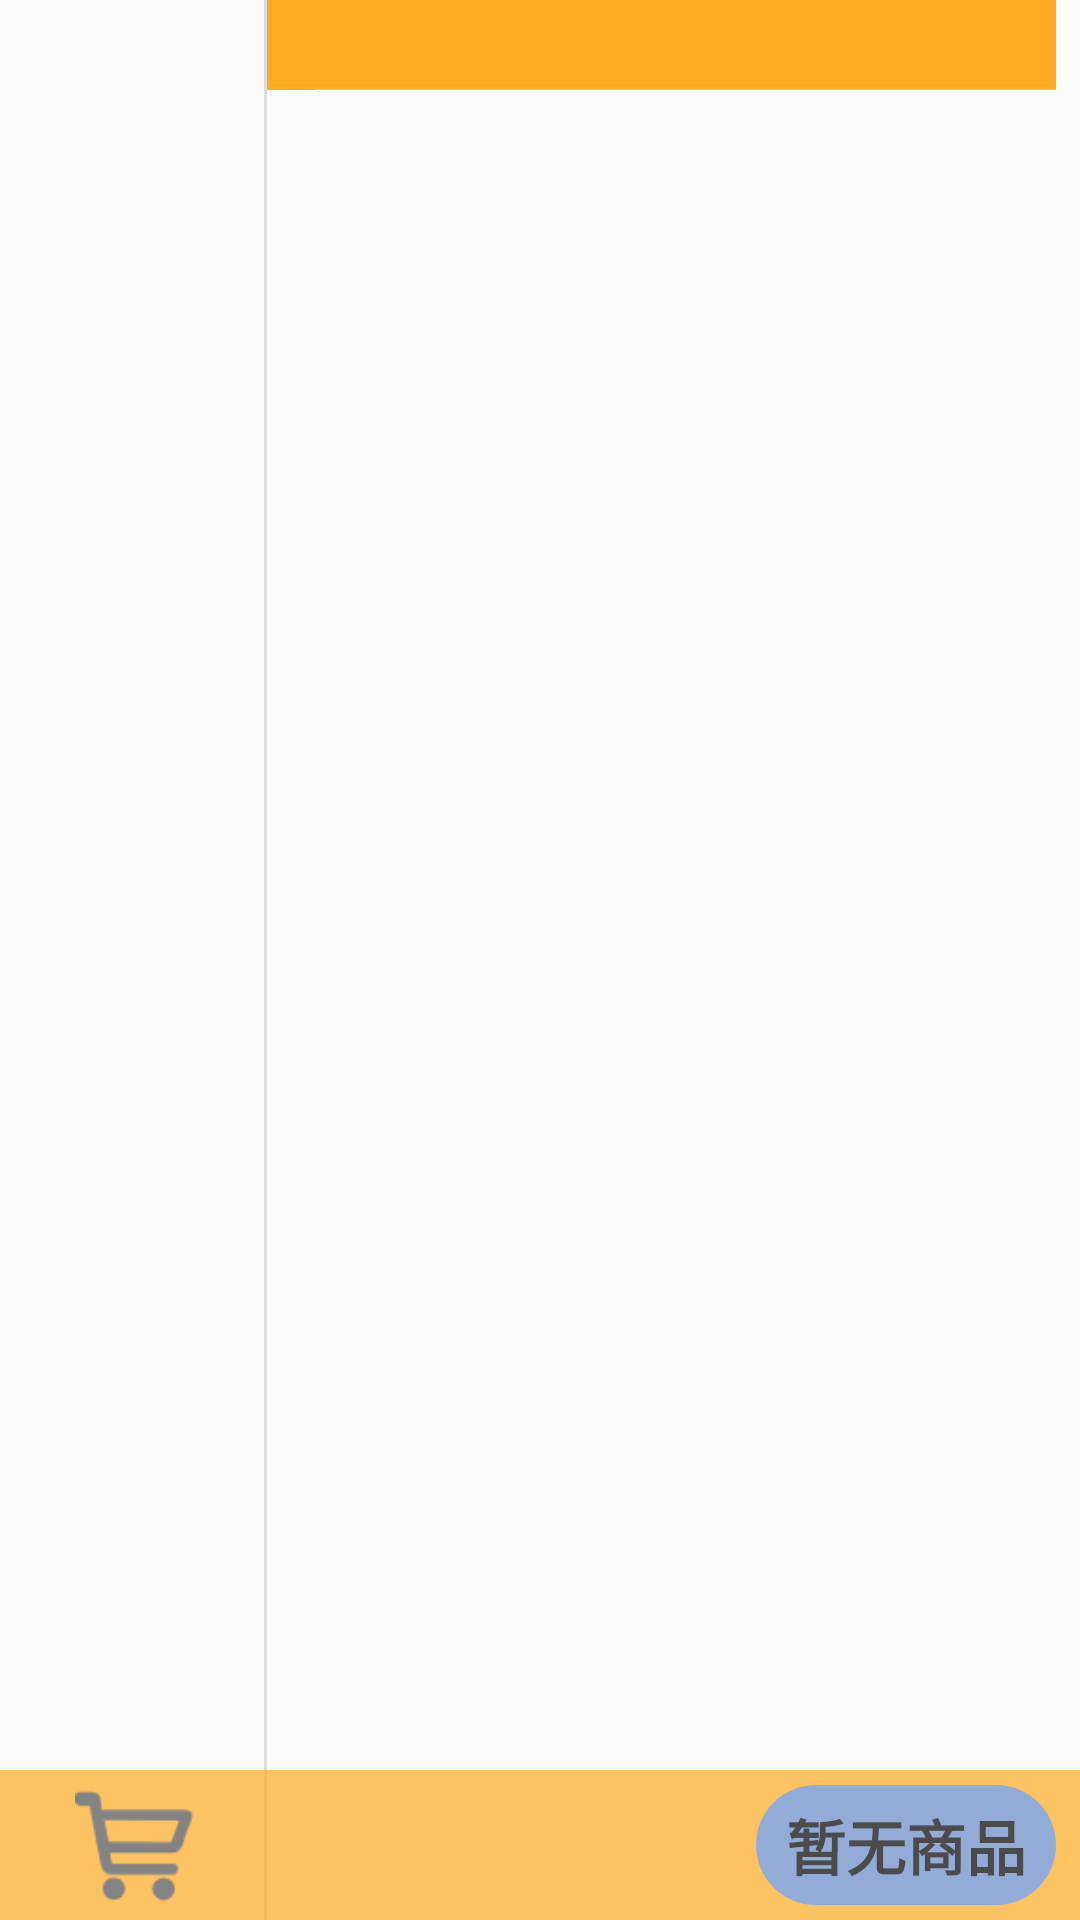

Named icons in this screenshot (1080x1920) and their centers, point (x, y):
shoppingcar null: point (134, 1846)
